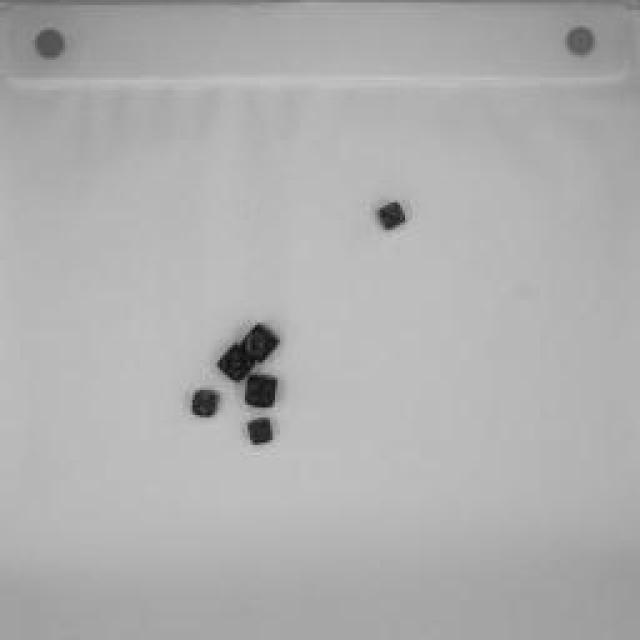dice_3: (238, 321, 282, 369), (215, 340, 257, 385)
dice_4: (245, 371, 280, 411), (374, 198, 411, 234)
dice_5: (186, 385, 222, 420), (245, 416, 277, 449)
